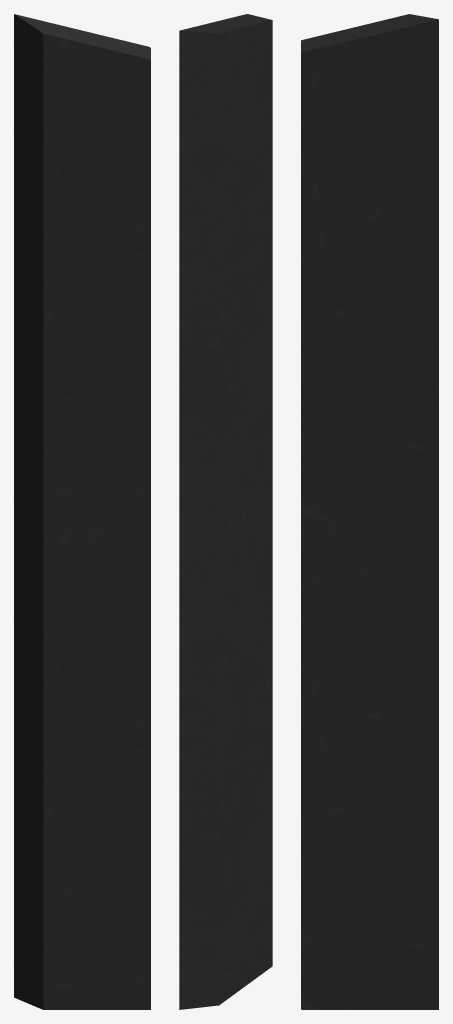
Rendered from A13.1.1 H.WALL. PNL 5551 CL.E.fbx.
3 views of the same model, side by side, from view 1: azimuth 90°, elevation 25°; view 2: azimuth 150°, elevation 25°; view 3: azimuth 270°, elevation 25° (orthographic).
Parts seen in each view (by area): view 1: Model; view 2: Model; view 3: Model.
Boxes of the visible parts, <box> form: Model: <box>14,14,150,1009</box>; Model: <box>179,14,272,1009</box>; Model: <box>301,14,438,1009</box>.
Size of the model in its own units: 150 by 5551 by 700.
